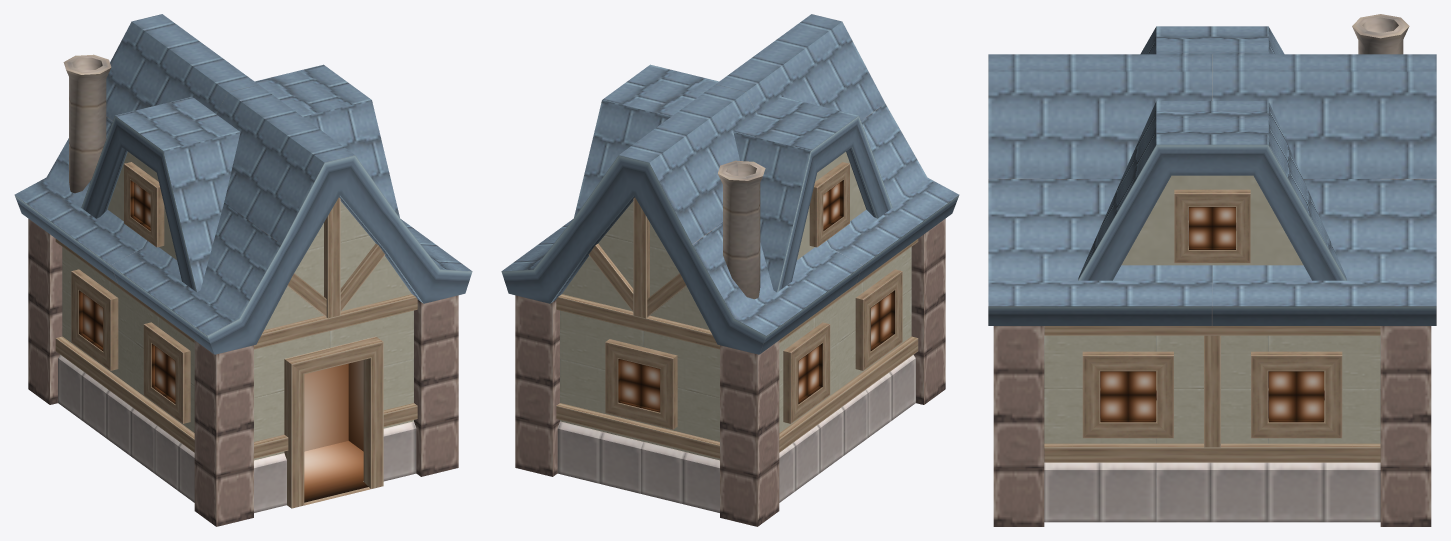
The model's file is Private Dwelling 2 - S.fbx.
3 views of the same model, side by side, from view 1: azimuth 30°, elevation 25°; view 2: azimuth 150°, elevation 25°; view 3: azimuth 270°, elevation 25° (orthographic). The views are drawn at different scales.
Visible parts, largest first — view 1: bd_011, lightobj1; view 2: bd_011, lightobj1; view 3: bd_011, lightobj1.
Boxes of the visible parts, bbox=[...] form: bd_011: bbox=[14, 14, 472, 526]; lightobj1: bbox=[79, 180, 368, 502]; bd_011: bbox=[501, 14, 959, 526]; lightobj1: bbox=[618, 180, 894, 412]; bd_011: bbox=[988, 14, 1436, 526]; lightobj1: bbox=[1100, 207, 1324, 422].
Size of the model in its own units: 3.17 by 3.89 by 4.
